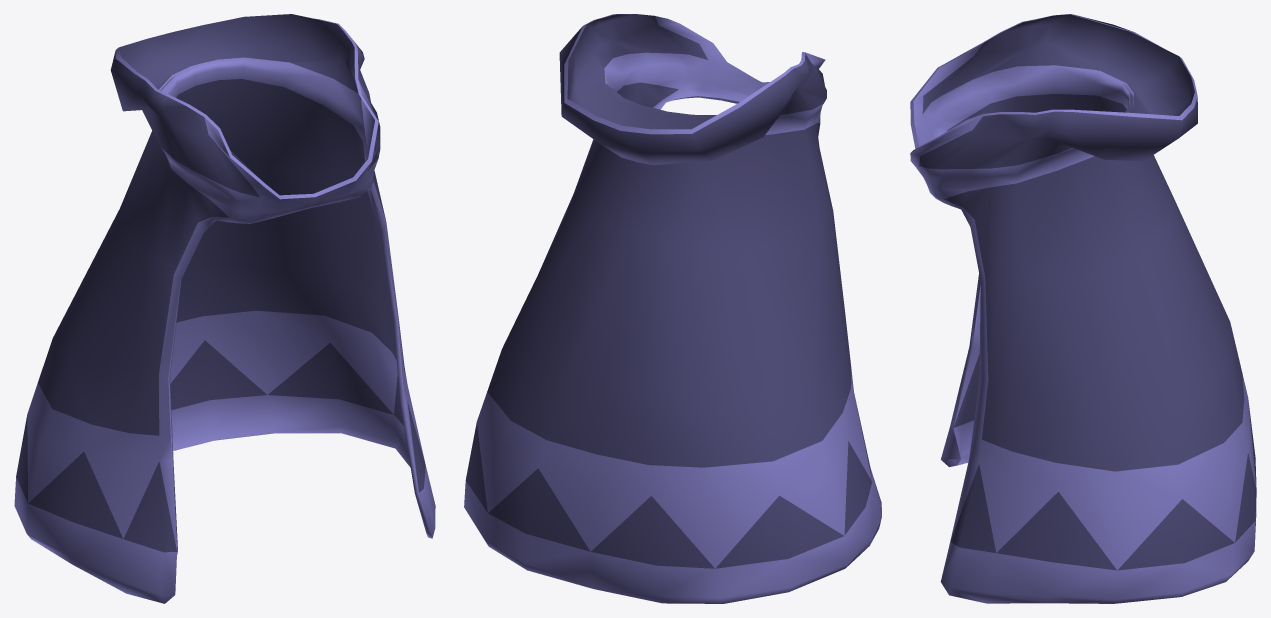
The model's file is cloak.fbx.
3 renders of one model, left to right at view 1: azimuth 30°, elevation 25°; view 2: azimuth 150°, elevation 25°; view 3: azimuth 270°, elevation 25°, orthographic.
Parts seen in each view (by area): view 1: Stickman_heads_sphere.001; view 2: Stickman_heads_sphere.001; view 3: Stickman_heads_sphere.001.
Part boxes in pixels (x1,y1,x2,y2): Stickman_heads_sphere.001: (14,14,435,603); Stickman_heads_sphere.001: (464,14,881,603); Stickman_heads_sphere.001: (910,14,1256,603).
Size of the model in its own units: 0.8935 by 1.09 by 0.7273.
